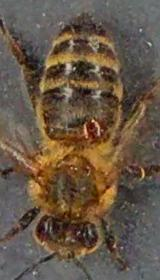varroa_mite: (68, 112, 107, 141)
